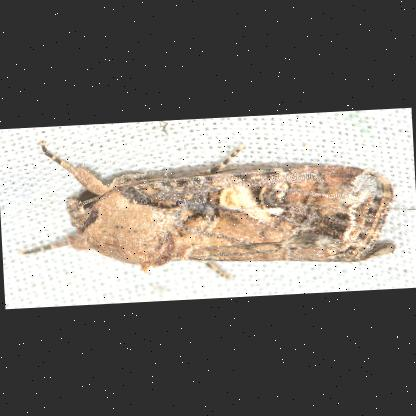Fall Armyworm Moth: (10, 118, 400, 294)
